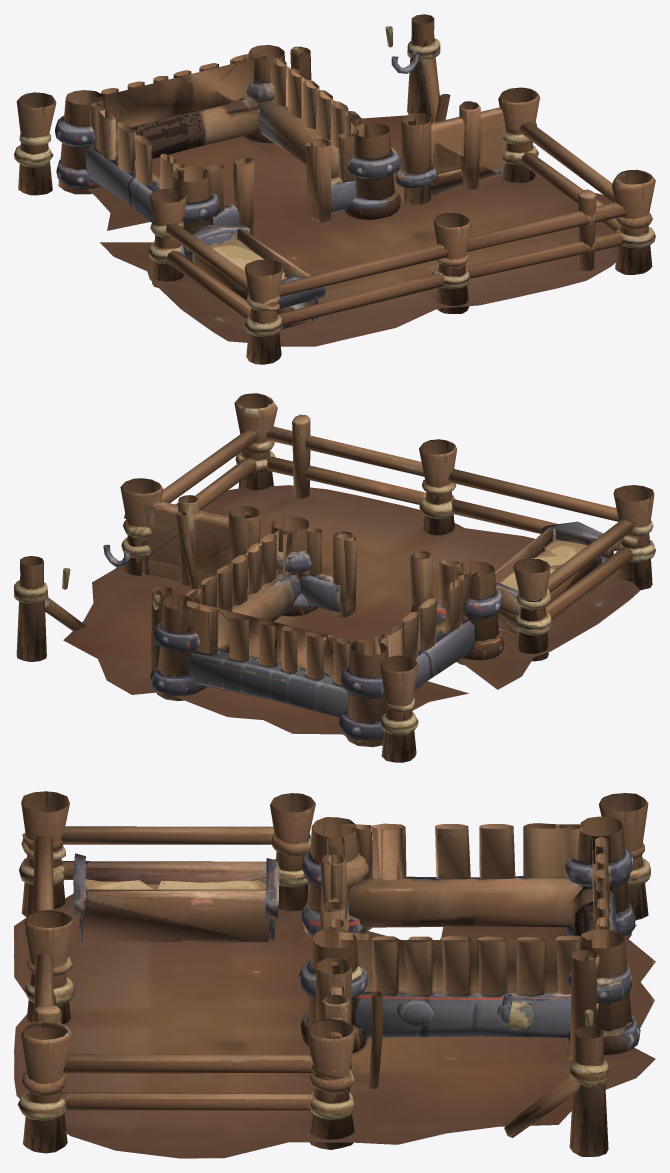
File: matadero_e1.glb
The picture shows the model from 3 angles, top to bottom: view 1: azimuth 30°, elevation 25°; view 2: azimuth 150°, elevation 25°; view 3: azimuth 270°, elevation 25°; orthographic projection. The views are drawn at different scales.
Bounding box in the file's own units: 7.96 × 1.61 × 8.
Materials: 1 (1 with a texture image).
